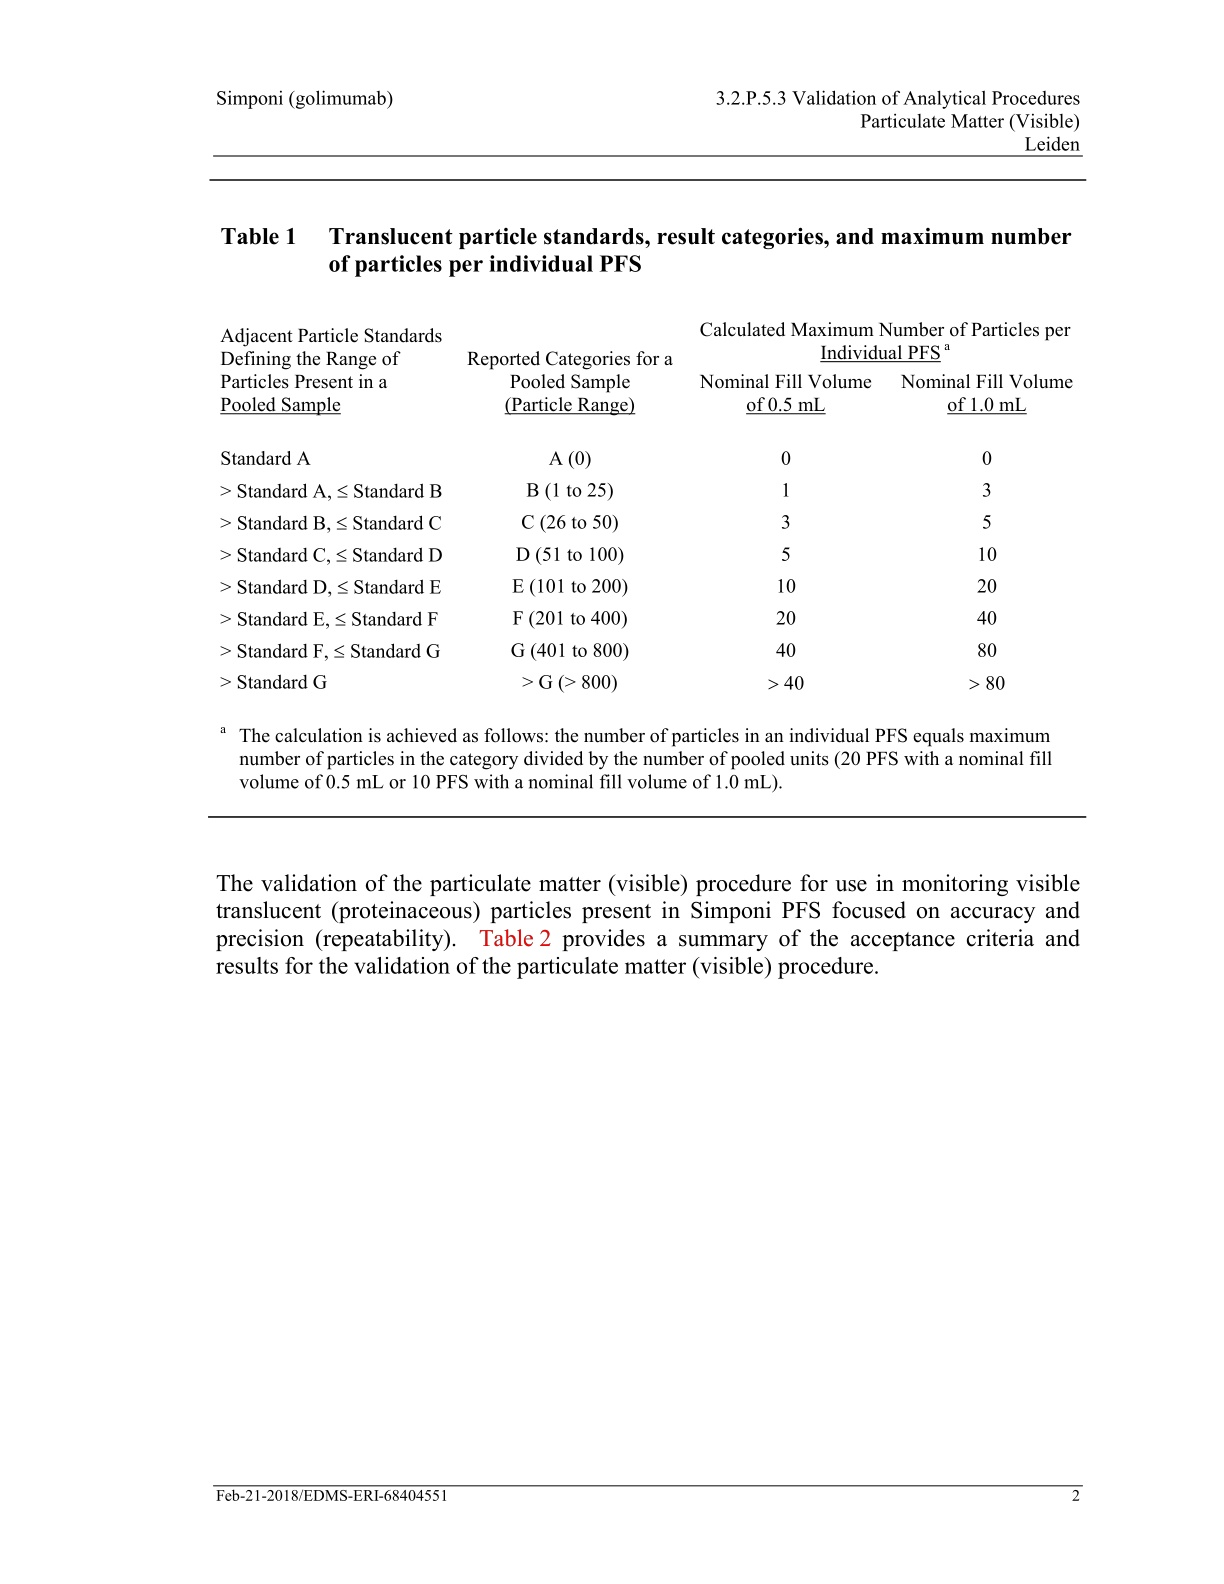nolines: (217, 318, 1075, 696)
